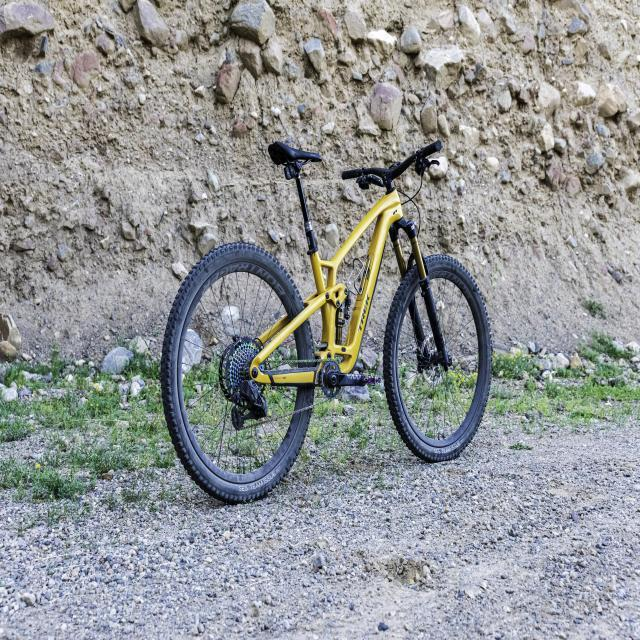bike: (160, 135, 492, 508)
